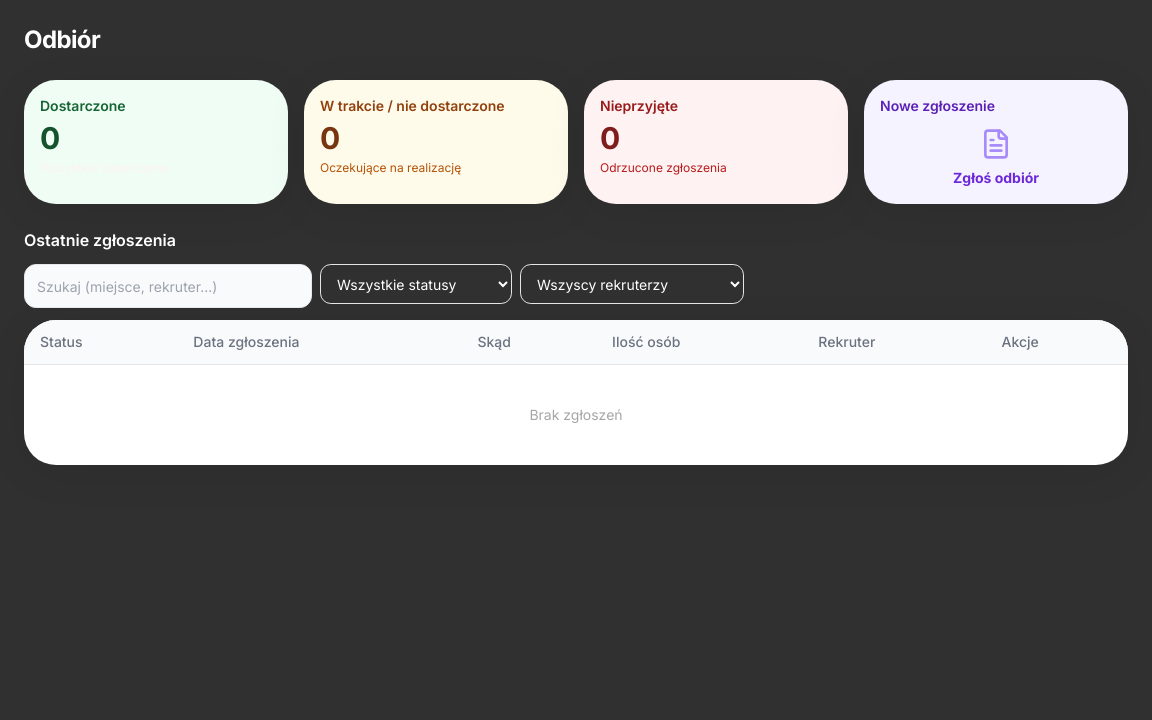
Test: OdbiorView › opens the new submission dialog when clicking CTA
Click the text "Zgłoś odbiór": (996, 178) [953, 168, 1039, 188]
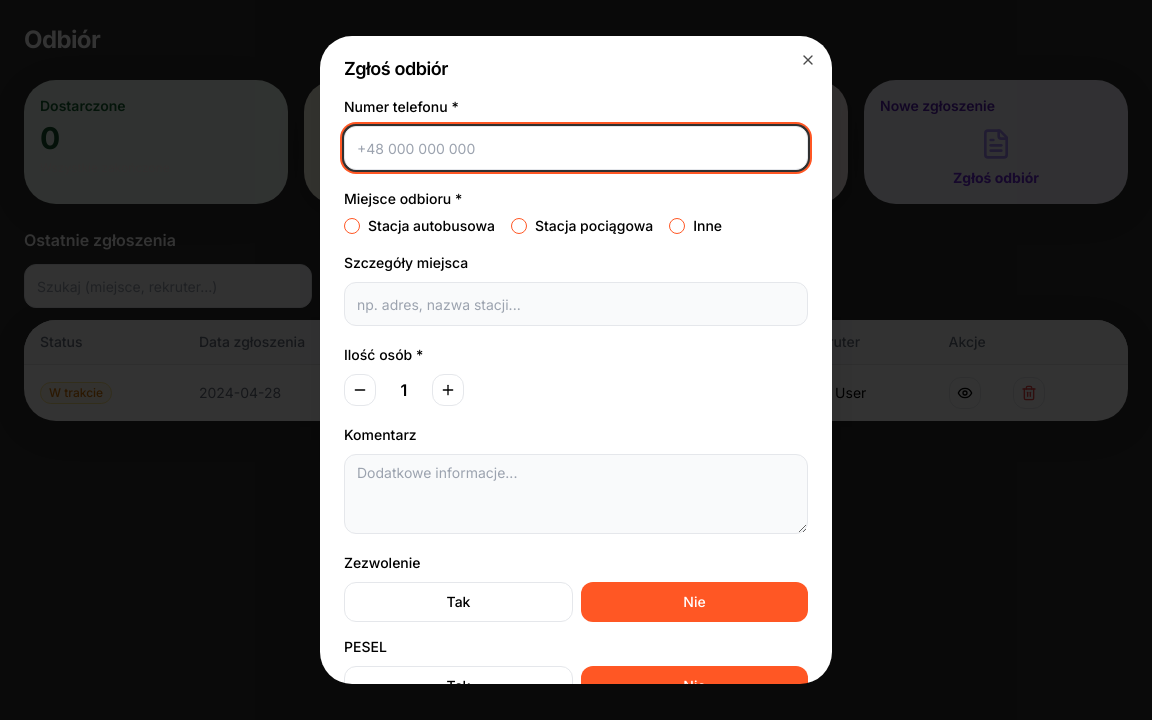
Now the field labelled "Numer telefonu *" is shown, box [344, 126, 808, 170]
